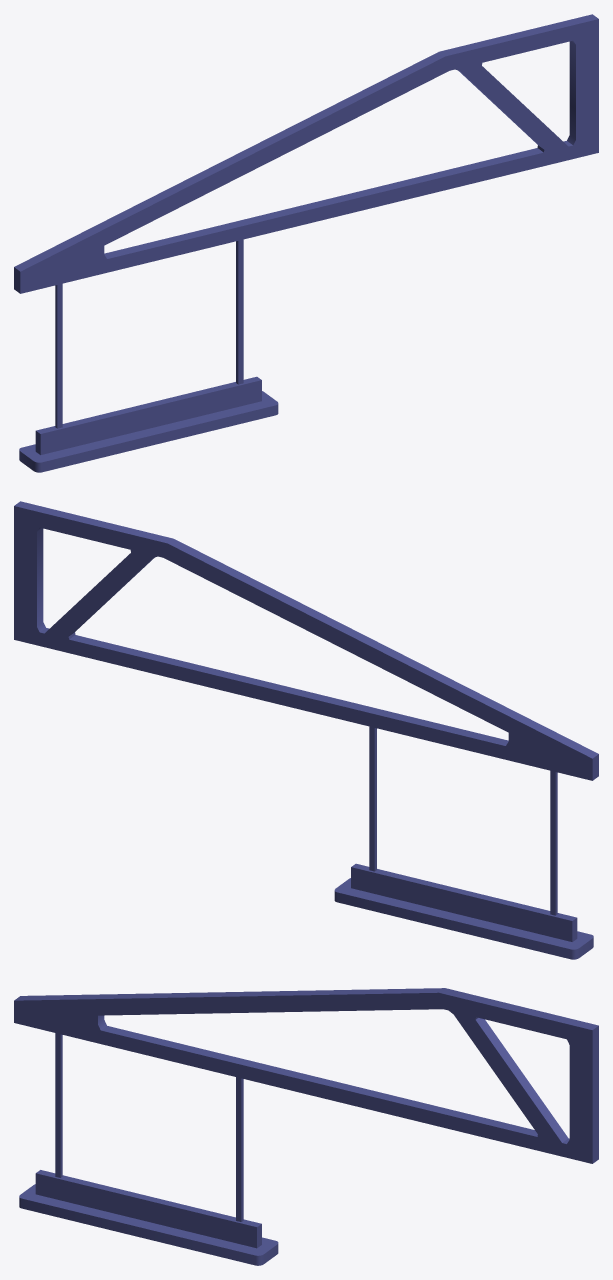
The model's file is SM_GameArea_Light_01.fbx.
3 renders of one model, top to bottom at view 1: azimuth 30°, elevation 25°; view 2: azimuth 150°, elevation 25°; view 3: azimuth 330°, elevation 25°, orthographic.
Parts seen in each view (by area): view 1: SM_GameArea_Light_01; view 2: SM_GameArea_Light_01; view 3: SM_GameArea_Light_01.
Boxes of the visible parts, x1,y1,x2,y2 form: SM_GameArea_Light_01: [14, 14, 598, 472]; SM_GameArea_Light_01: [14, 501, 598, 959]; SM_GameArea_Light_01: [14, 988, 598, 1265].
Bounding box in the file's own units: 11.24 × 5.77 × 0.6812.
2 materials, 1 textured.
